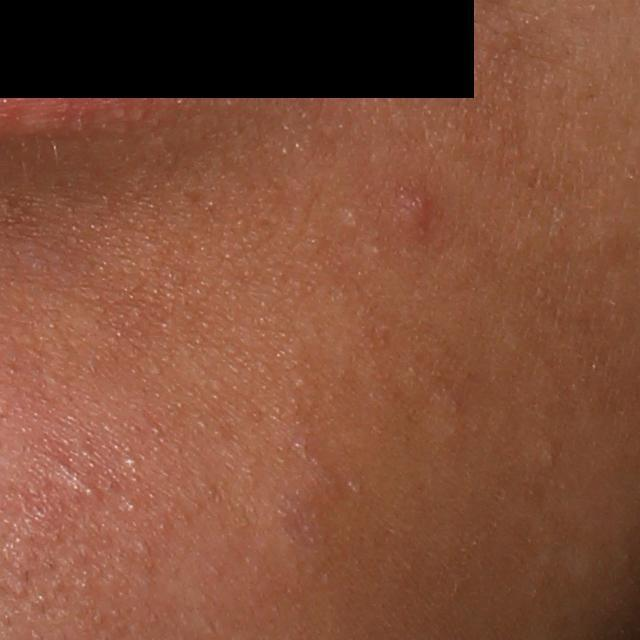comedo: (539, 444, 563, 469), (121, 453, 143, 471), (347, 210, 360, 226)
papule: (383, 182, 450, 249)
